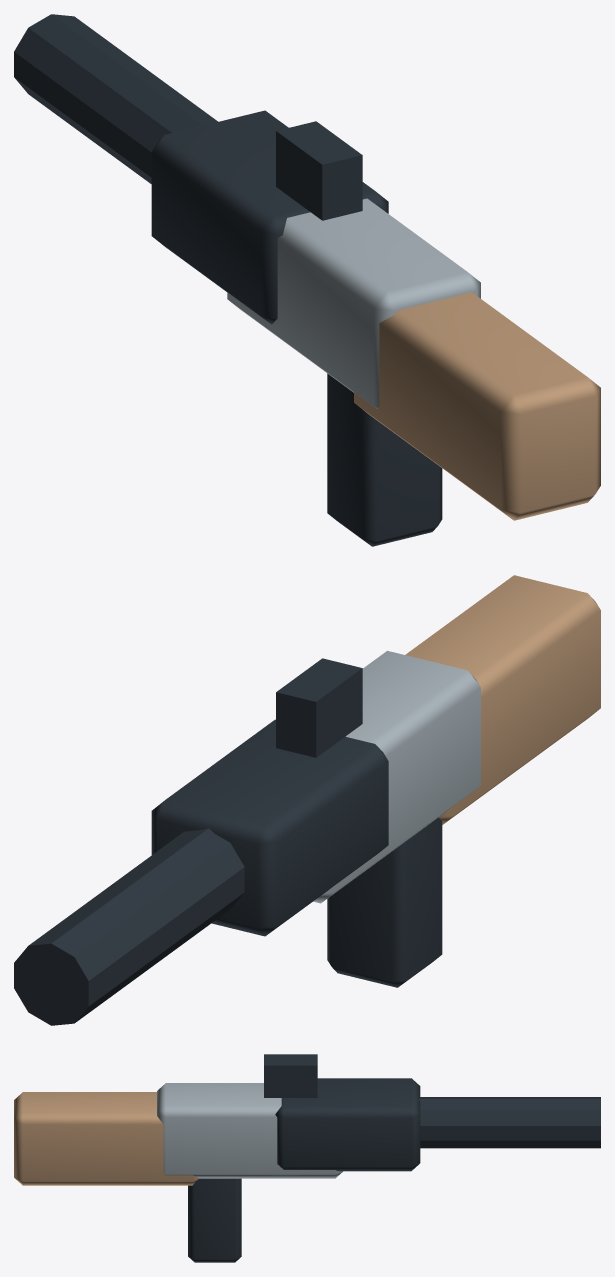
Rendered from shotgun.glb.
3 views of the same model, one above another, from view 1: azimuth 30°, elevation 25°; view 2: azimuth 150°, elevation 25°; view 3: azimuth 270°, elevation 25° (orthographic). The views are drawn at different scales.
Visible parts, largest first — view 1: shotgun_stock, shotgun_receiver, shotgun_handguard, shotgun_barrel, shotgun_grip, shotgun_sight; view 2: shotgun_handguard, shotgun_stock, shotgun_barrel, shotgun_receiver, shotgun_grip, shotgun_sight; view 3: shotgun_stock, shotgun_handguard, shotgun_receiver, shotgun_barrel, shotgun_grip, shotgun_sight.
Part boxes in pixels (<box>): shotgun_stock: <box>354,292,600,520</box>; shotgun_receiver: <box>227,198,480,408</box>; shotgun_handguard: <box>151,110,388,324</box>; shotgun_barrel: <box>14,14,217,183</box>; shotgun_grip: <box>327,373,442,546</box>; shotgun_sight: <box>276,121,362,220</box>; shotgun_handguard: <box>151,719,388,936</box>; shotgun_stock: <box>405,575,600,824</box>; shotgun_barrel: <box>14,828,244,1025</box>; shotgun_receiver: <box>313,650,480,903</box>; shotgun_grip: <box>327,817,442,987</box>; shotgun_sight: <box>276,658,362,757</box>; shotgun_stock: <box>14,1092,198,1185</box>; shotgun_handguard: <box>275,1078,420,1171</box>; shotgun_receiver: <box>157,1083,342,1178</box>; shotgun_barrel: <box>419,1097,600,1148</box>; shotgun_grip: <box>188,1178,241,1262</box>; shotgun_sight: <box>264,1054,317,1097</box>.
Bounding box in the file's own units: 0.19 × 0.48 × 1.31.
